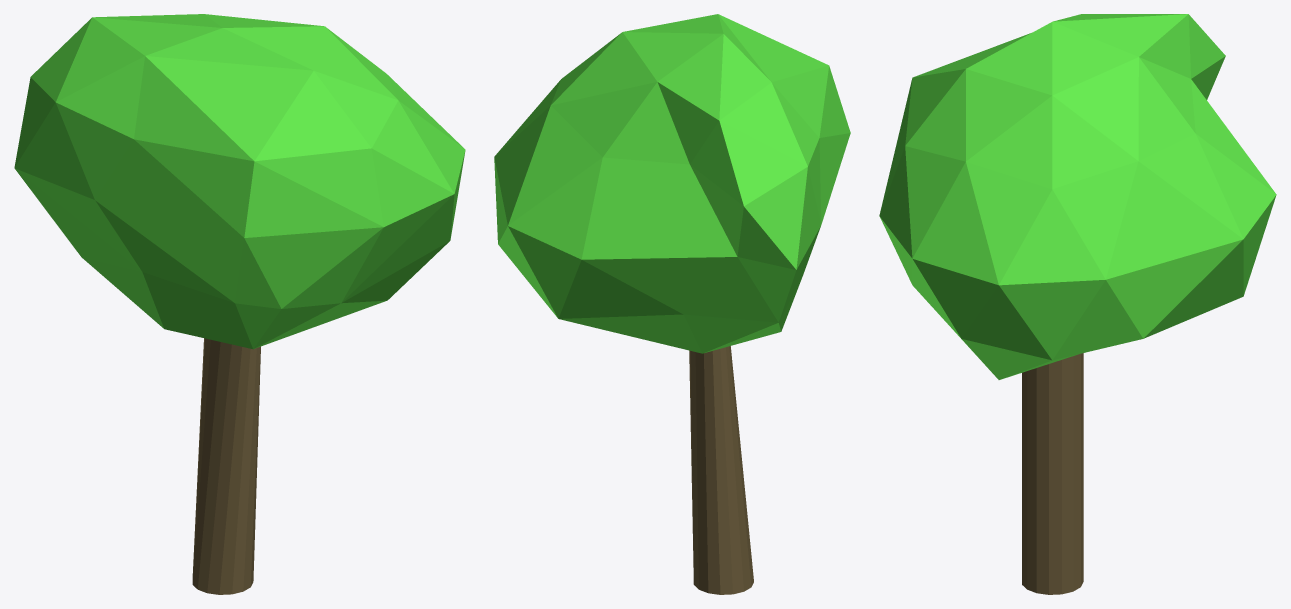
File: tree_4.fbx
3 views of the same model, side by side, from view 1: azimuth 30°, elevation 25°; view 2: azimuth 150°, elevation 25°; view 3: azimuth 270°, elevation 25° (orthographic). The views are drawn at different scales.
Visible parts, largest first — view 1: tree_2; view 2: tree_2; view 3: tree_2.
Boxes of the visible parts, x1,y1,x2,y2 form: tree_2: (14,14,465,594); tree_2: (494,14,850,594); tree_2: (879,14,1276,594).
Bounding box in the file's own units: 2760 × 4088 × 2627.
